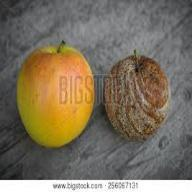apple: (17, 48, 92, 150), (104, 56, 169, 142)
